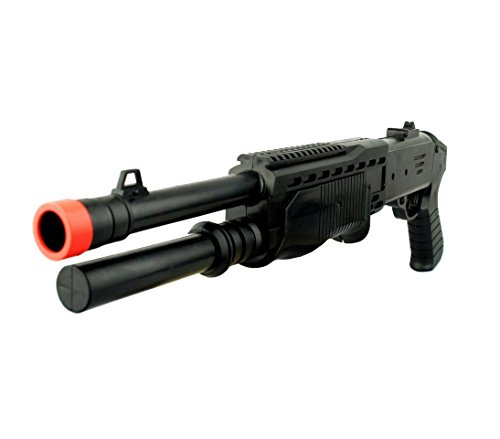Arma Falsa: (31, 119, 461, 317)
